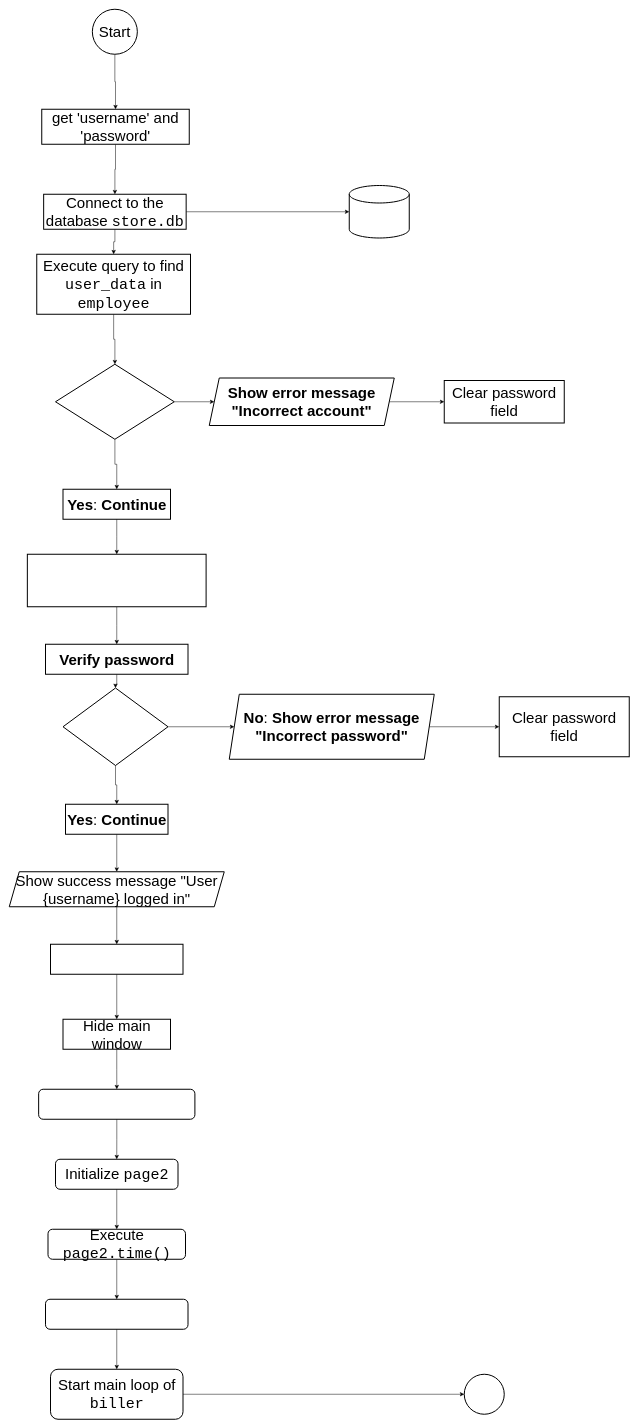
This 638x1428 diagram has some shape labels left out. The centre of each missing label's shape, as x and y in pixels:
"Clear input fields" belongs at (116,959).
"Create new window biller" belongs at (116,1104).
"Does user_data exist?" belongs at (114,402).
"End" belongs at (484,1394).
"Get stored_password_hash" belongs at (116,580).
"Is the password correct?" belongs at (115,726).
"Set window close protocol" belongs at (116,1314).
"Store" belongs at (379,211).
